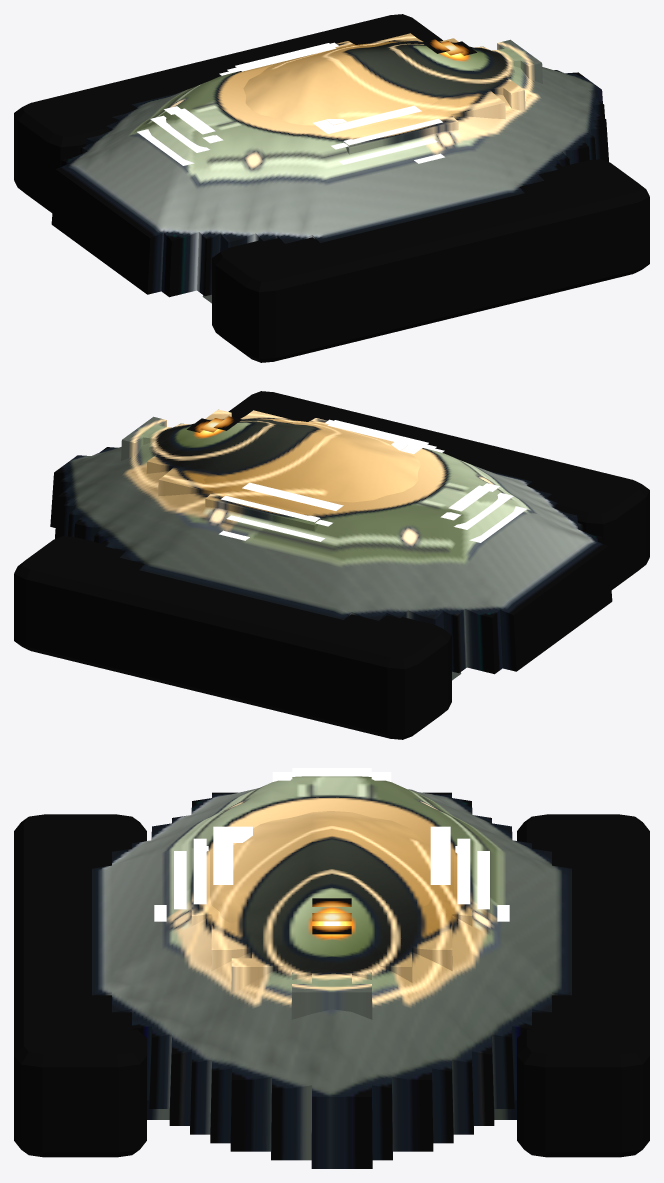
The picture shows the model from 3 angles, top to bottom: view 1: azimuth 30°, elevation 25°; view 2: azimuth 150°, elevation 25°; view 3: azimuth 270°, elevation 25°; orthographic projection. The views are drawn at different scales.
Visible parts, largest first — view 1: chassis-heightfield, locomotion-right, mortar-tube-relief, locomotion-left, semantic-team-surfaces, authored-emissive-surfaces; view 2: chassis-heightfield, locomotion-left, mortar-tube-relief, locomotion-right, semantic-team-surfaces, authored-emissive-surfaces; view 3: chassis-heightfield, locomotion-left, locomotion-right, mortar-tube-relief, semantic-team-surfaces, authored-emissive-surfaces.
Part boxes in pixels (x1=…): chassis-heightfield: x1=51, y1=44, x2=608, y2=297; locomotion-right: x1=212, y1=159, x2=649, y2=362; mortar-tube-relief: x1=243, y1=33, x2=542, y2=154; locomotion-left: x1=14, y1=14, x2=442, y2=212; semantic-team-surfaces: x1=137, y1=42, x2=444, y2=165; authored-emissive-surfaces: x1=422, y1=39, x2=476, y2=55; chassis-heightfield: x1=50, y1=421, x2=612, y2=674; locomotion-left: x1=14, y1=536, x2=451, y2=739; mortar-tube-relief: x1=121, y1=409, x2=420, y2=531; locomotion-right: x1=228, y1=391, x2=649, y2=589; semantic-team-surfaces: x1=219, y1=419, x2=526, y2=542; authored-emissive-surfaces: x1=187, y1=416, x2=241, y2=432; chassis-heightfield: x1=92, y1=776, x2=571, y2=1168; locomotion-left: x1=517, y1=814, x2=649, y2=1157; locomotion-right: x1=14, y1=814, x2=146, y2=1157; mortar-tube-relief: x1=191, y1=811, x2=472, y2=1019; semantic-team-surfaces: x1=154, y1=768, x2=509, y2=921; authored-emissive-surfaces: x1=312, y1=898, x2=351, y2=934.
Size of the model in its own units: 0.9 by 0.29 by 0.784.
Materials: 5 (4 with a texture image).
